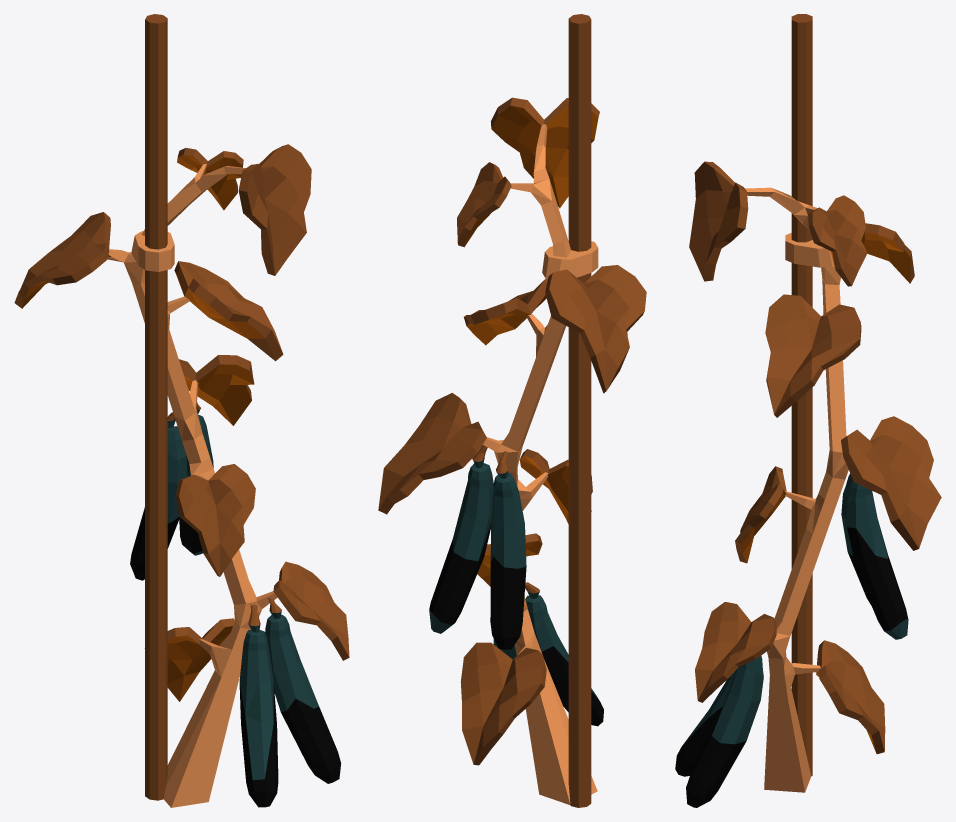
File: Cucumber_Dead_L.fbx
The picture shows the model from 3 angles, left to right: view 1: azimuth 30°, elevation 25°; view 2: azimuth 150°, elevation 25°; view 3: azimuth 270°, elevation 25°; orthographic projection. The views are drawn at different scales.
Parts seen in each view (by area): view 1: Cucumber_Dead_L, Cucumber_Dead_02, Cucumber_Dead_01, Cucumber_Dead_04, Cucumber_Dead_03; view 2: Cucumber_Dead_L, Cucumber_Dead_04, Cucumber_Dead_03, Cucumber_Dead_02; view 3: Cucumber_Dead_L, Cucumber_Dead_01, Cucumber_Dead_03, Cucumber_Dead_02, Cucumber_Dead_04.
Part boxes in pixels (box(x1,y1,x2,y2)): Cucumber_Dead_L: box(14, 14, 349, 807); Cucumber_Dead_02: box(239, 624, 278, 807); Cucumber_Dead_01: box(265, 611, 341, 783); Cucumber_Dead_04: box(130, 420, 187, 580); Cucumber_Dead_03: box(179, 410, 213, 555); Cucumber_Dead_L: box(378, 14, 646, 807); Cucumber_Dead_04: box(490, 470, 526, 649); Cucumber_Dead_03: box(429, 457, 493, 633); Cucumber_Dead_02: box(525, 591, 603, 726); Cucumber_Dead_L: box(689, 14, 941, 792); Cucumber_Dead_01: box(686, 655, 763, 807); Cucumber_Dead_03: box(847, 480, 908, 639); Cucumber_Dead_02: box(675, 671, 735, 776); Cucumber_Dead_04: box(841, 473, 871, 605).
Size of the model in its own units: 15.83 by 48.97 by 15.65.
